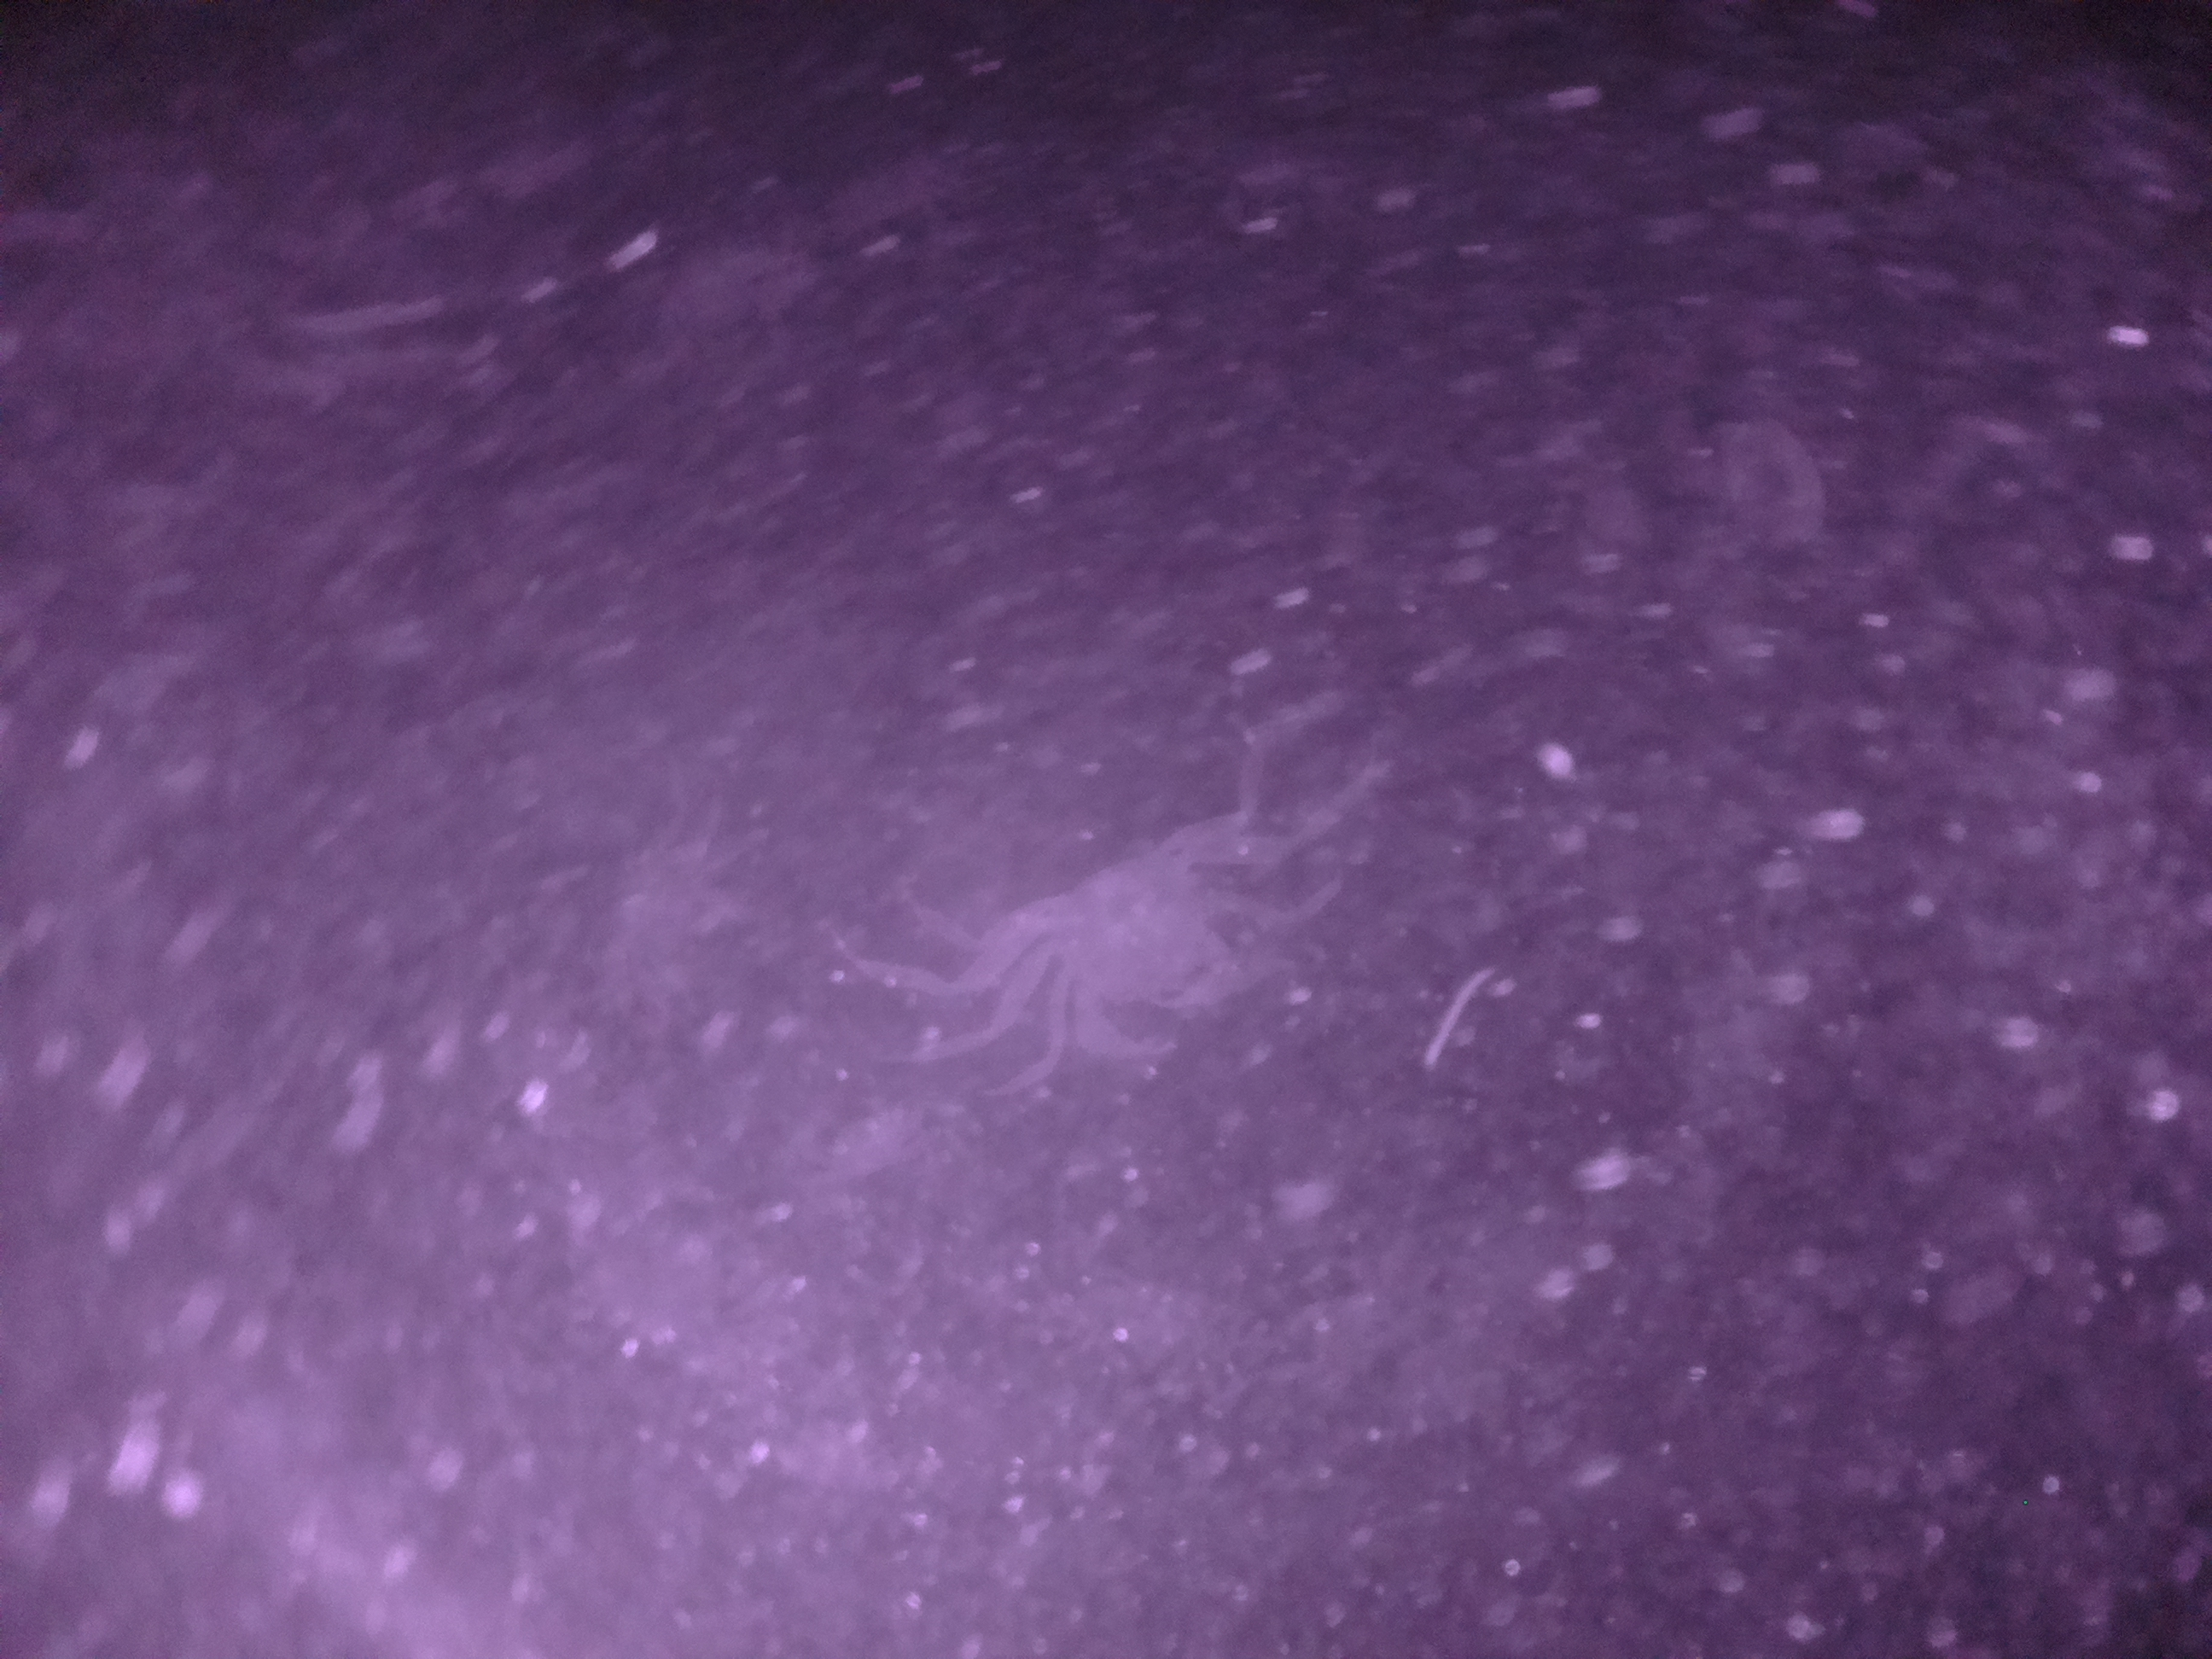Crab: (974, 814, 1310, 1098)
